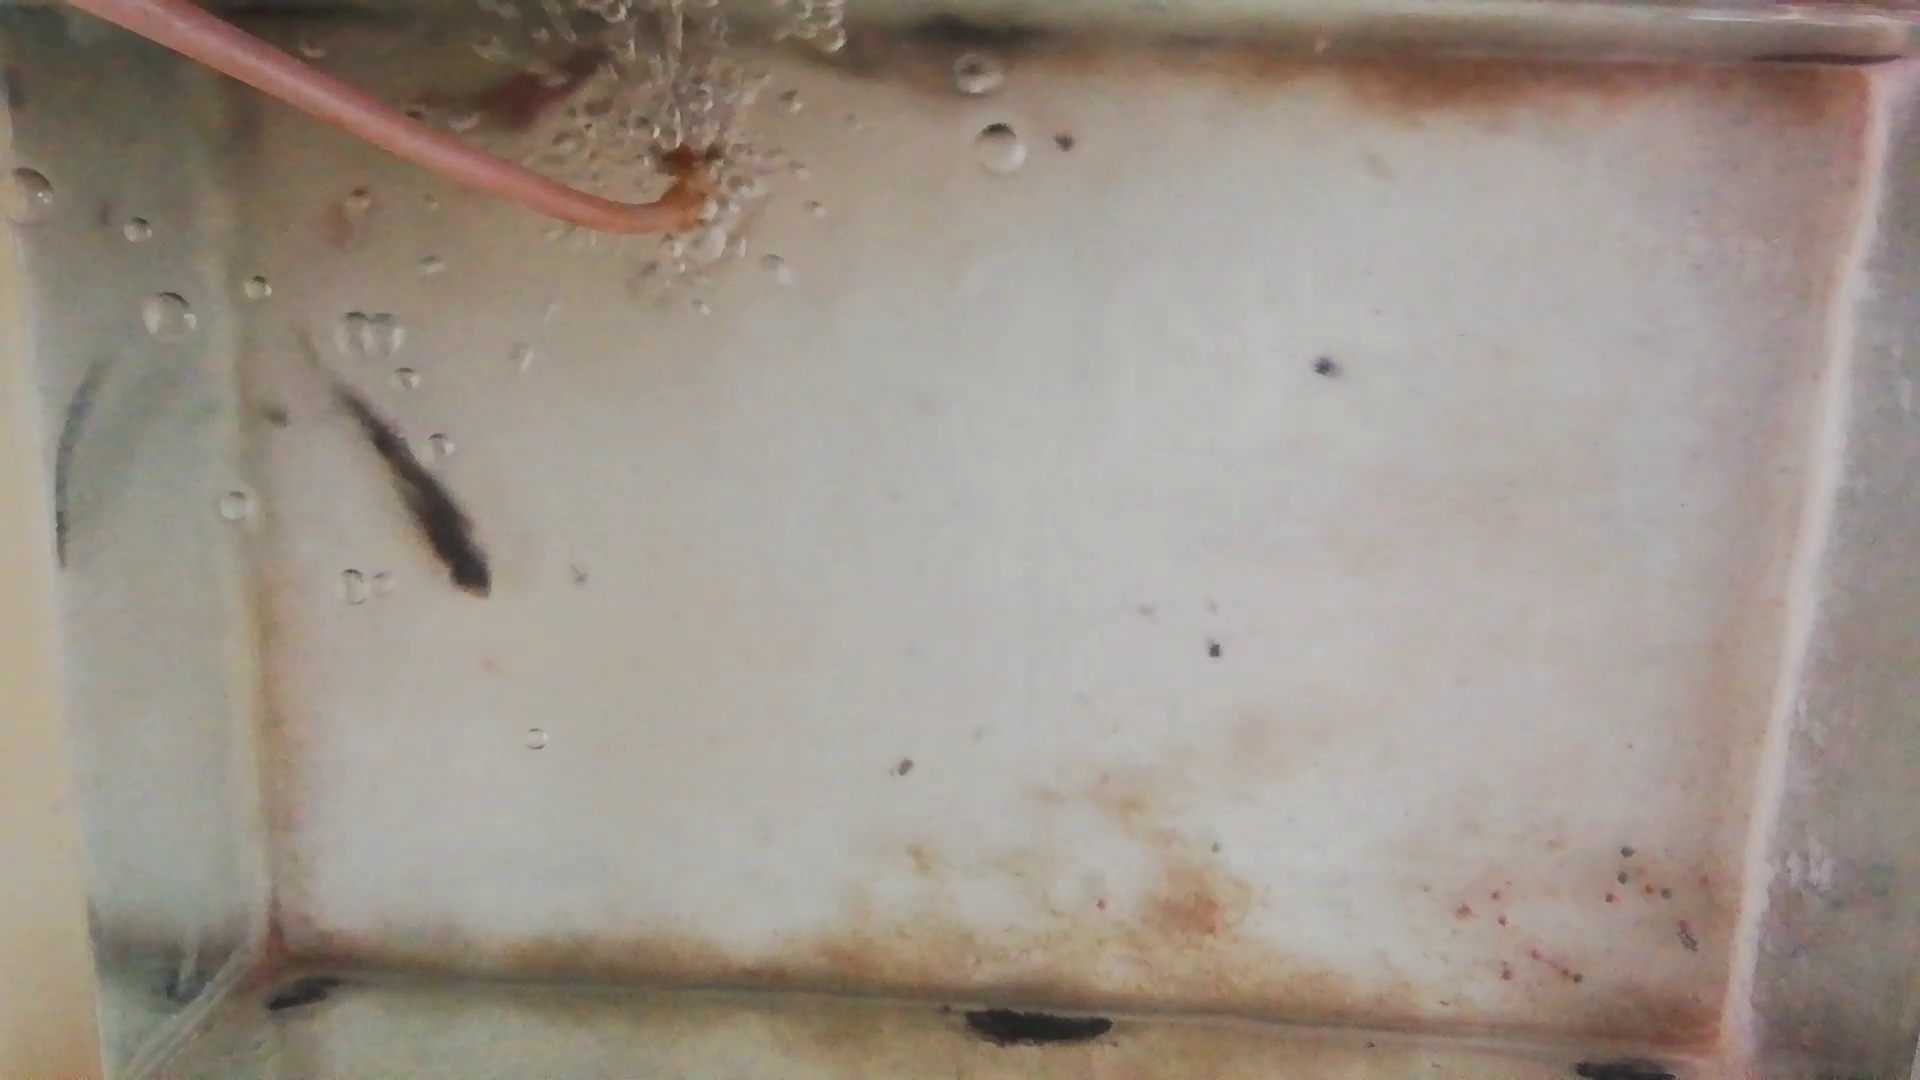fish: (330, 386, 492, 599), (417, 47, 613, 133)
